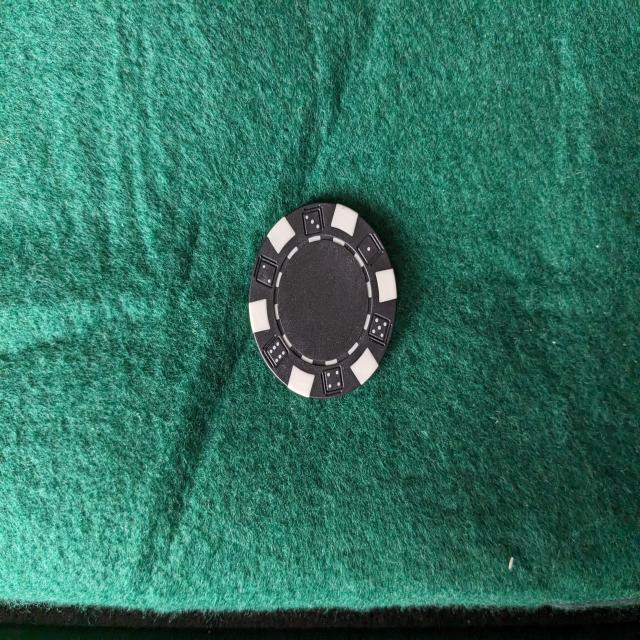black chip: (247, 201, 397, 401)
